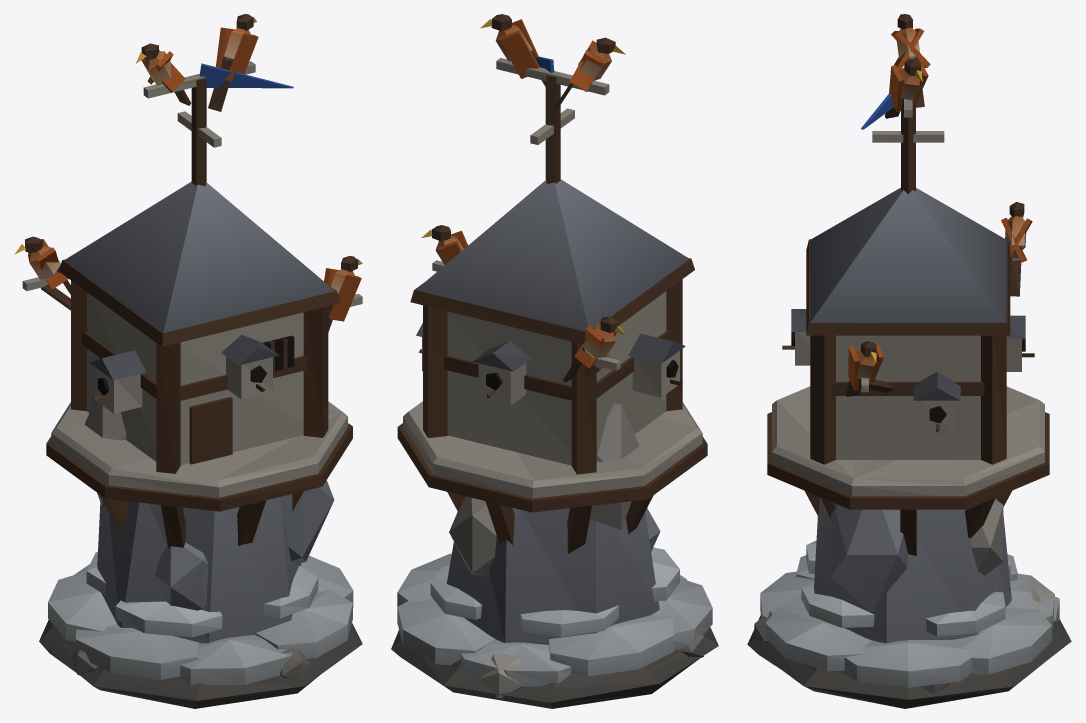
File: kestrel_flock.glb
3 views of the same model, side by side, from view 1: azimuth 30°, elevation 25°; view 2: azimuth 150°, elevation 25°; view 3: azimuth 270°, elevation 25° (orthographic). The views are drawn at different scales.
Visible parts, largest first — view 1: kestrel_flock; view 2: kestrel_flock; view 3: kestrel_flock.
Boxes of the visible parts, box(x1,y1,x2,y2) form: kestrel_flock: box(14, 14, 362, 708); kestrel_flock: box(391, 14, 718, 708); kestrel_flock: box(747, 14, 1071, 708).
Size of the model in its own units: 0.8949 by 1.87 by 0.9001.
